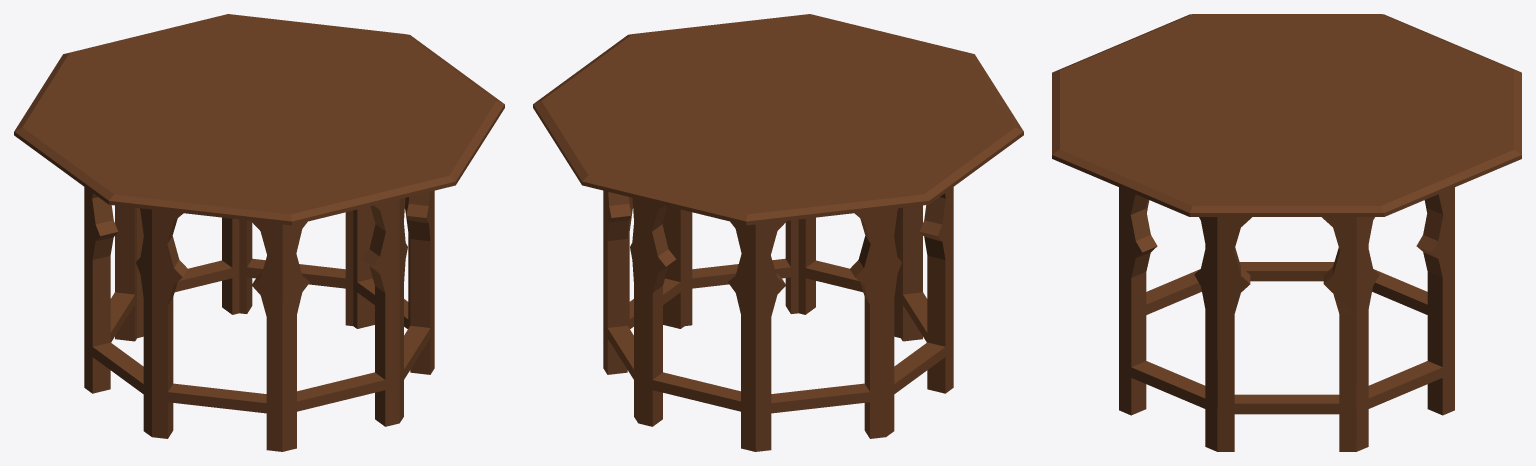
File: Table.fbx
3 renders of one model, left to right at view 1: azimuth 30°, elevation 25°; view 2: azimuth 150°, elevation 25°; view 3: azimuth 270°, elevation 25°, orthographic. The views are drawn at different scales.
Parts seen in each view (by area): view 1: Table; view 2: Table; view 3: Table.
Boxes of the visible parts, x1,y1,x2,y2 form: Table: (14, 14, 504, 451); Table: (533, 14, 1023, 451); Table: (1052, 14, 1521, 451).
Bounding box in the file's own units: 162 × 103 × 162.
